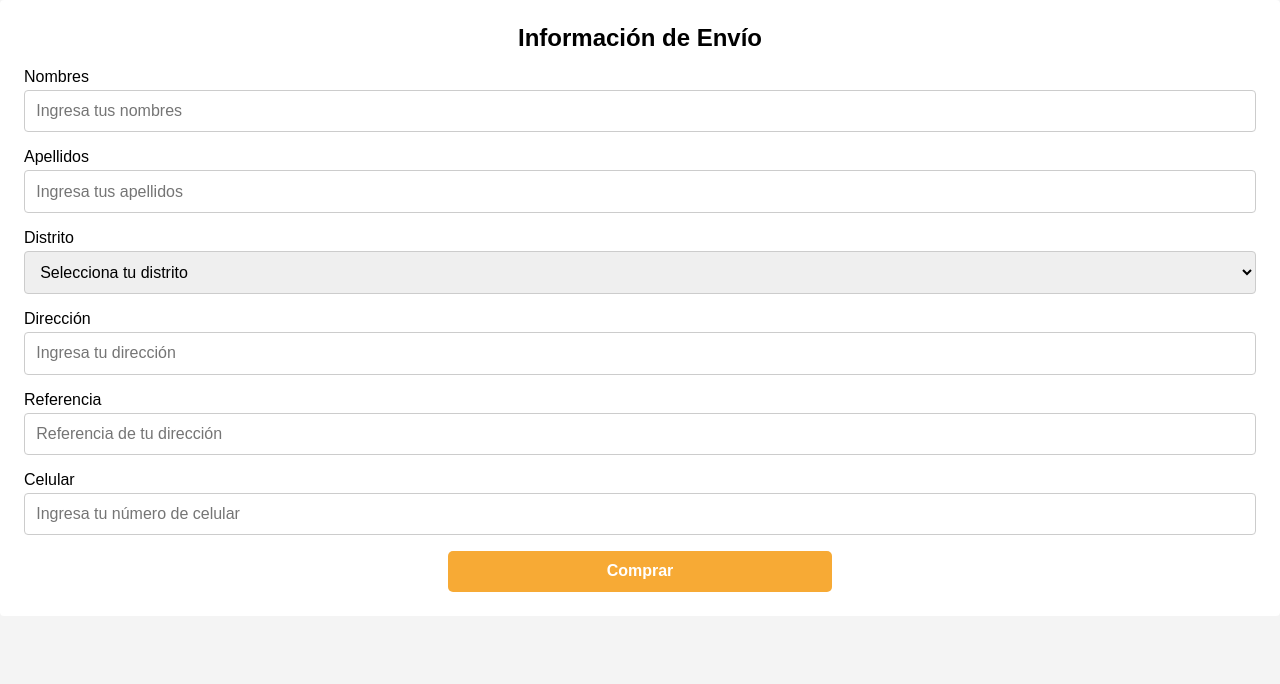
ShippingForm Component › displays validation errors for required fields
Step 1. Click the button "Comprar" → [640, 572], box [448, 551, 832, 592]
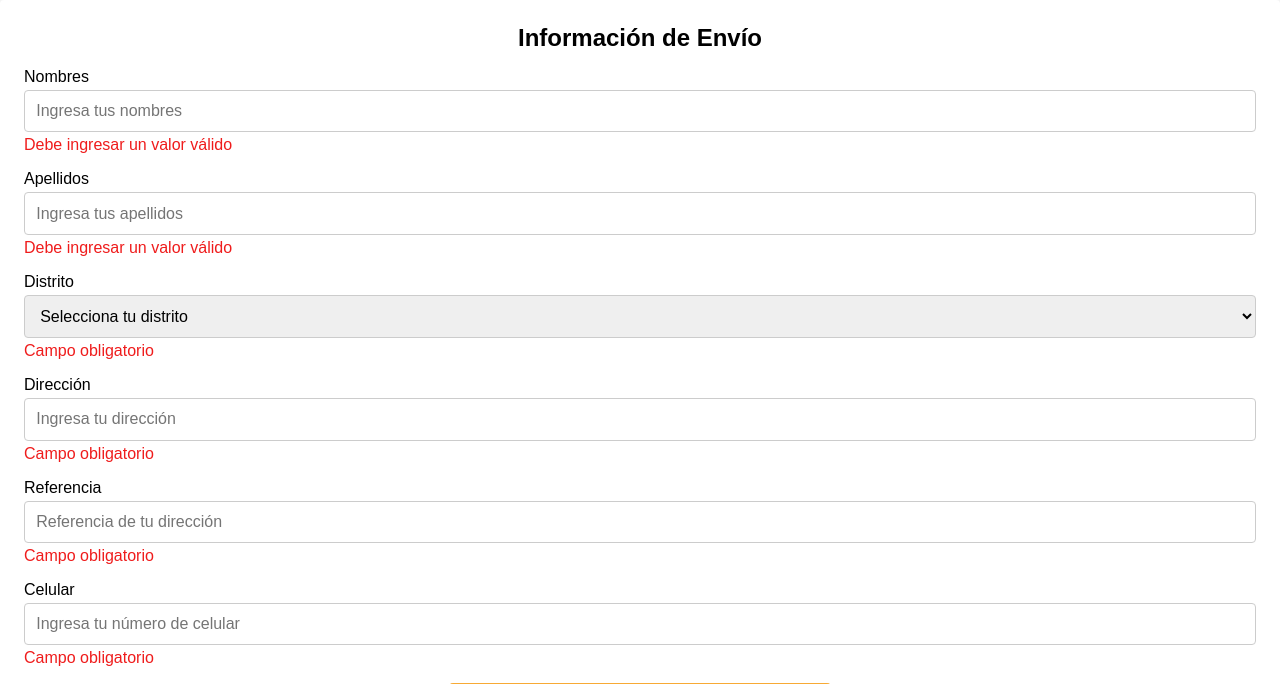
Expected: the text "Debe ingresar un valor válido" below "Nombres" is shown, [24, 136, 232, 153]
Expected: the text "Campo obligatorio" is shown 4 times, [24, 342, 154, 359]; [24, 444, 154, 462]; [24, 547, 154, 564]; [24, 649, 154, 666]
